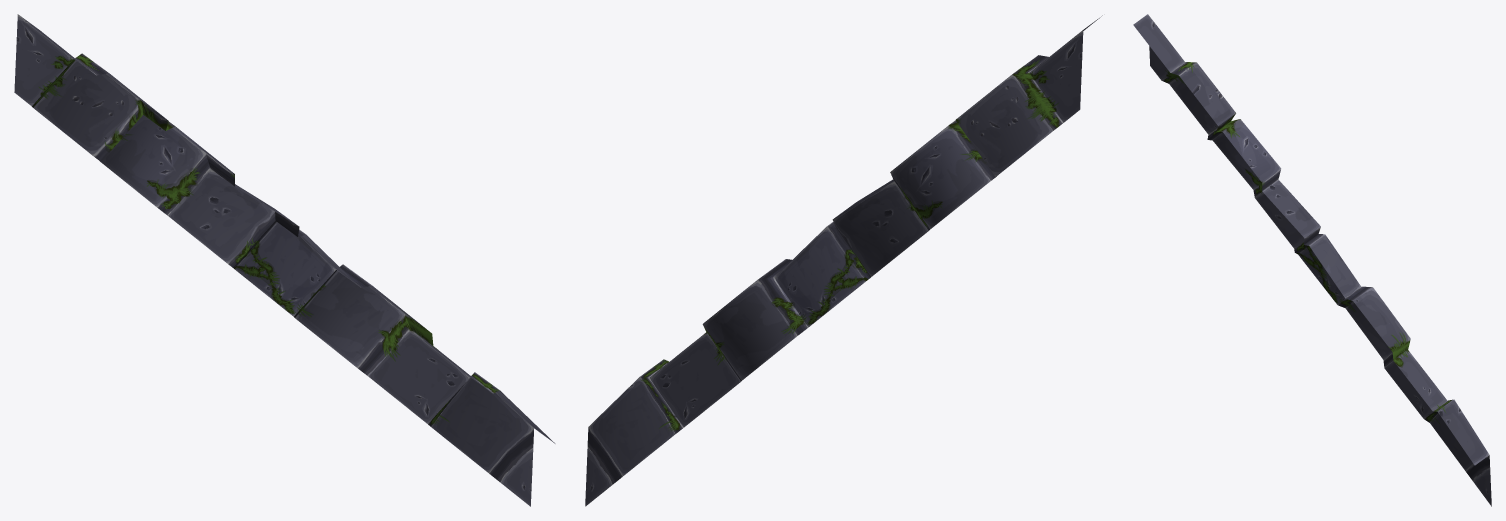
File: MOD_Stairs_01_WallTrim_R_1.fbx
3 views of the same model, side by side, from view 1: azimuth 30°, elevation 25°; view 2: azimuth 150°, elevation 25°; view 3: azimuth 330°, elevation 25° (orthographic). The views are drawn at different scales.
Parts seen in each view (by area): view 1: MOD_Stairs_01_WallTrim_R_1; view 2: MOD_Stairs_01_WallTrim_R_1; view 3: MOD_Stairs_01_WallTrim_R_1.
Part boxes in pixels (box(x1,y1,x2,y2)): MOD_Stairs_01_WallTrim_R_1: box(14, 14, 555, 506); MOD_Stairs_01_WallTrim_R_1: box(585, 15, 1102, 506); MOD_Stairs_01_WallTrim_R_1: box(1133, 14, 1491, 506).
Size of the model in its own units: 400 by 460 by 44.3.
